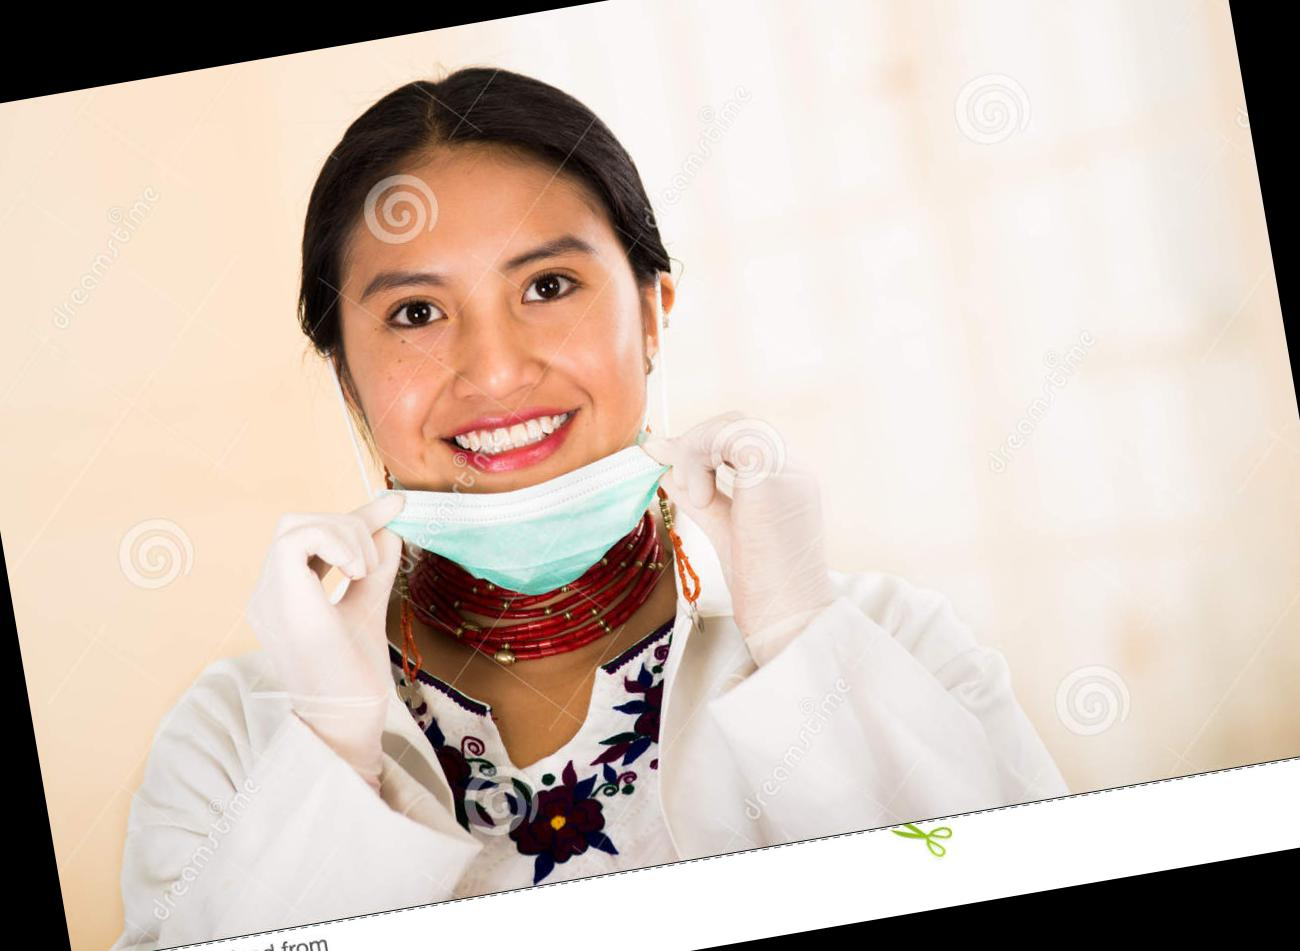mask_weared_incorrect: (347, 219, 666, 575)
